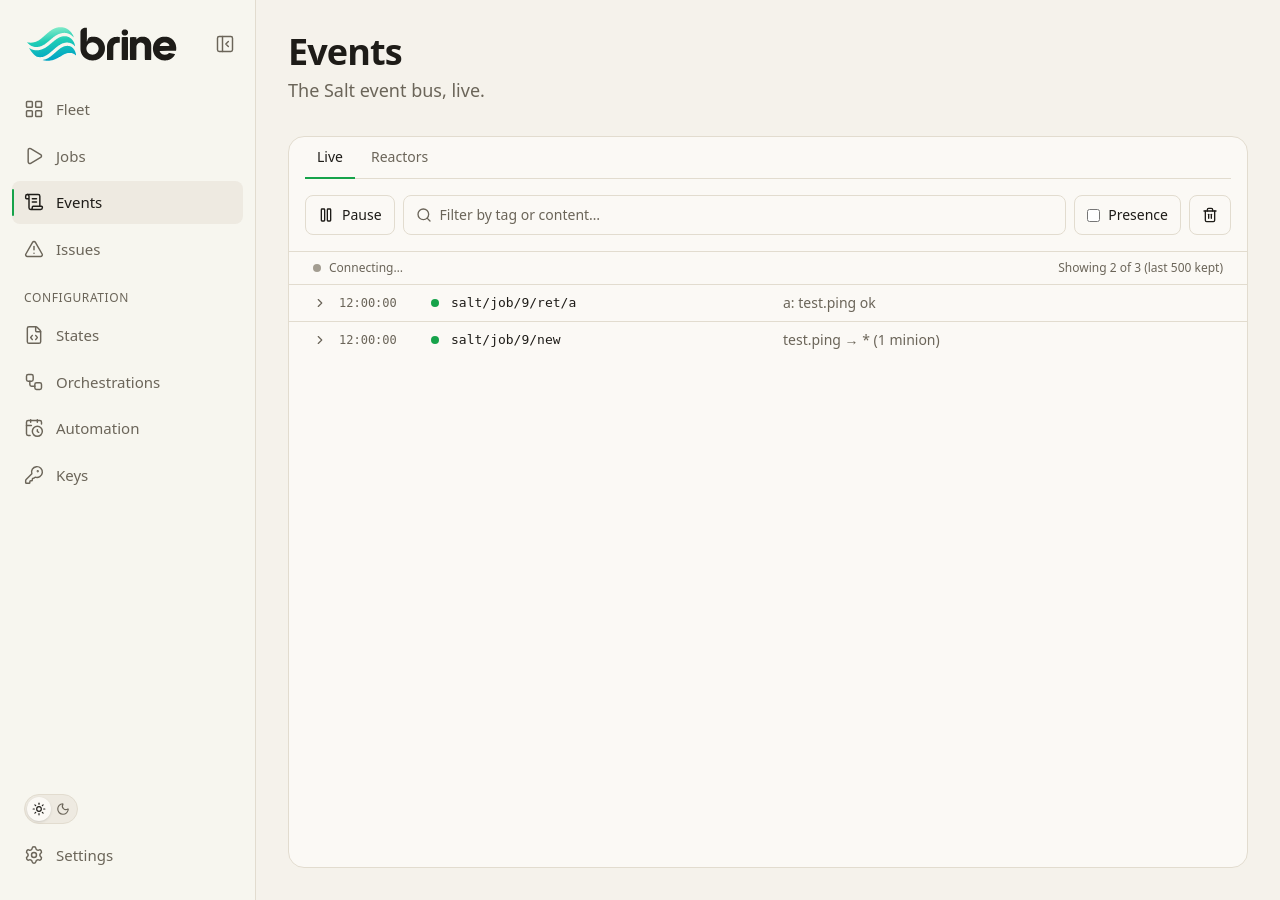
Test: EventsPage › streams events newest first, hiding presence by default
This screenshot has width=1280, height=900.
Click the checkbox labelled "Presence" at x=1094, y=215, box [1087,208,1100,222]
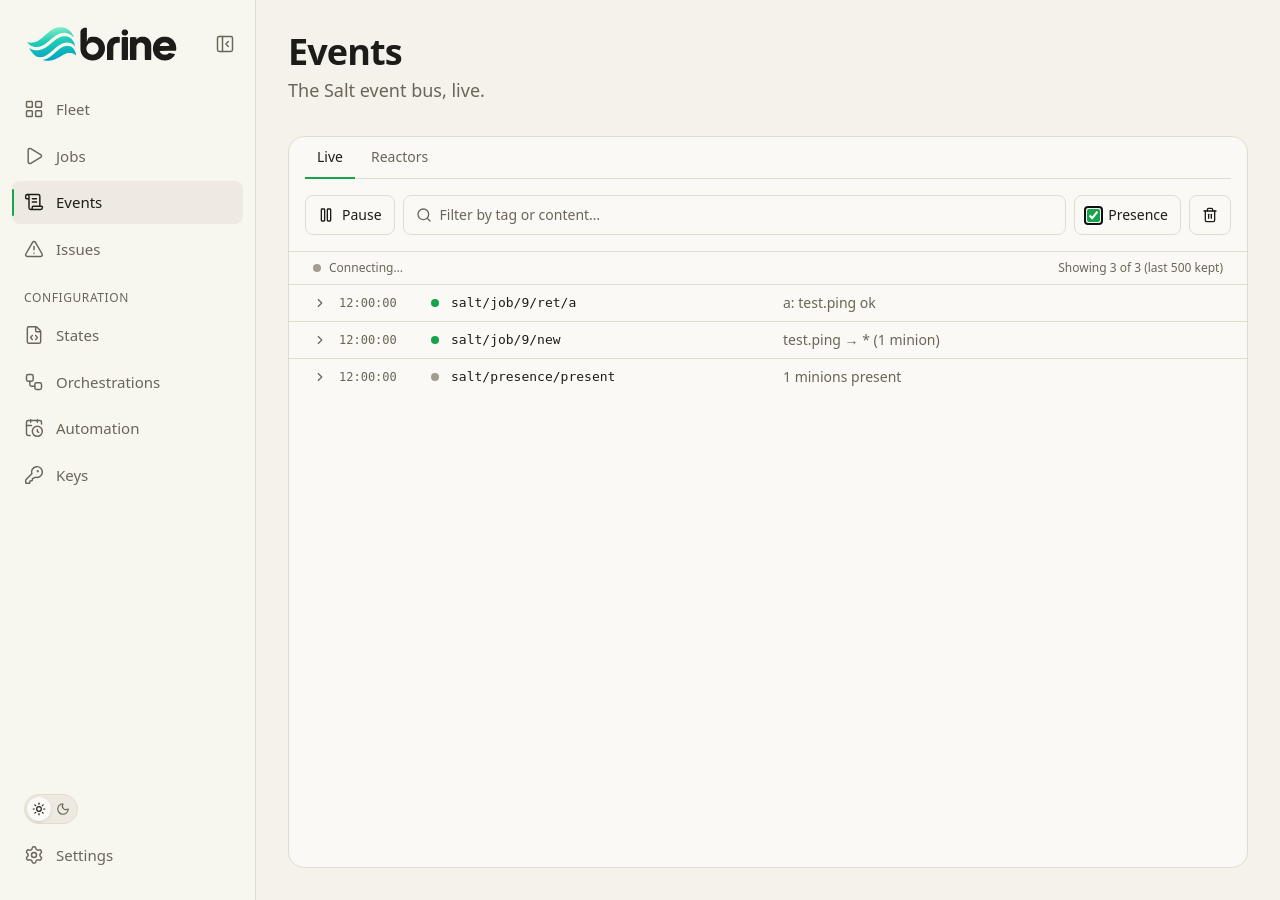
Expected: the text "1 minions present" is shown, [783,367,901,386]
